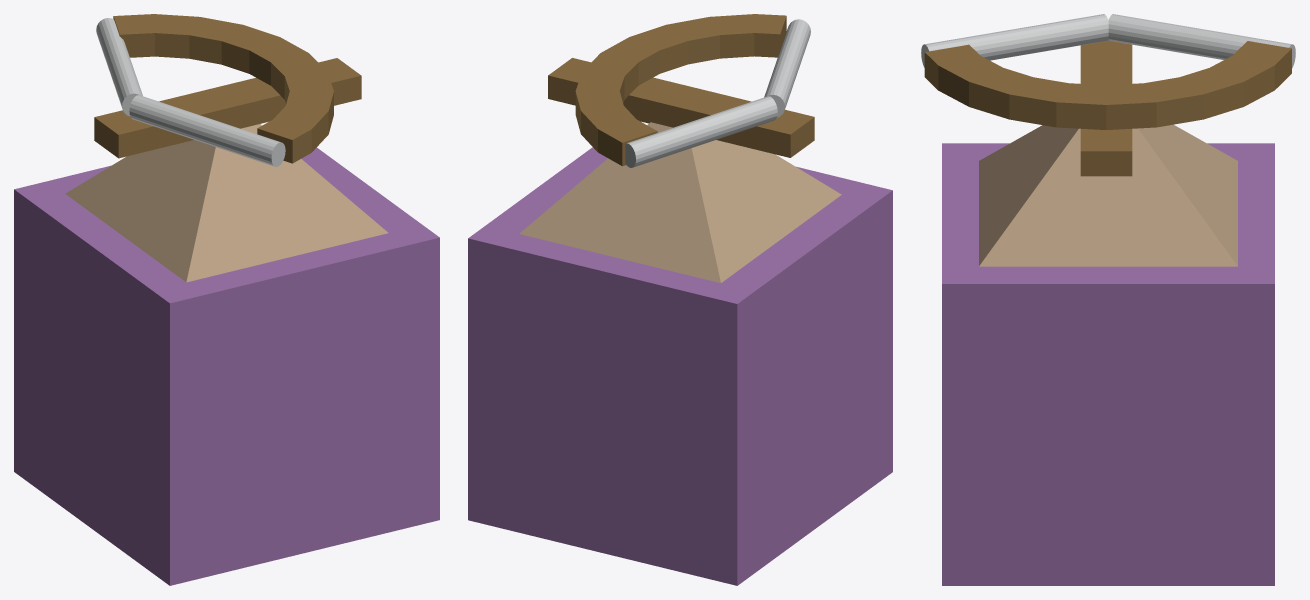
File: ballista_tower.glb
3 views of the same model, side by side, from view 1: azimuth 30°, elevation 25°; view 2: azimuth 150°, elevation 25°; view 3: azimuth 270°, elevation 25° (orthographic). The views are drawn at different scales.
Parts seen in each view (by area): view 1: Mesh_Mesh_head_geo.001_lambert2SG.001; view 2: Mesh_Mesh_head_geo.001_lambert2SG.001; view 3: Mesh_Mesh_head_geo.001_lambert2SG.001.
Part boxes in pixels (x1,y1,x2,y2): Mesh_Mesh_head_geo.001_lambert2SG.001: [14, 14, 439, 585]; Mesh_Mesh_head_geo.001_lambert2SG.001: [468, 14, 892, 585]; Mesh_Mesh_head_geo.001_lambert2SG.001: [921, 14, 1295, 585].
Size of the model in its own units: 40 by 60 by 45.
